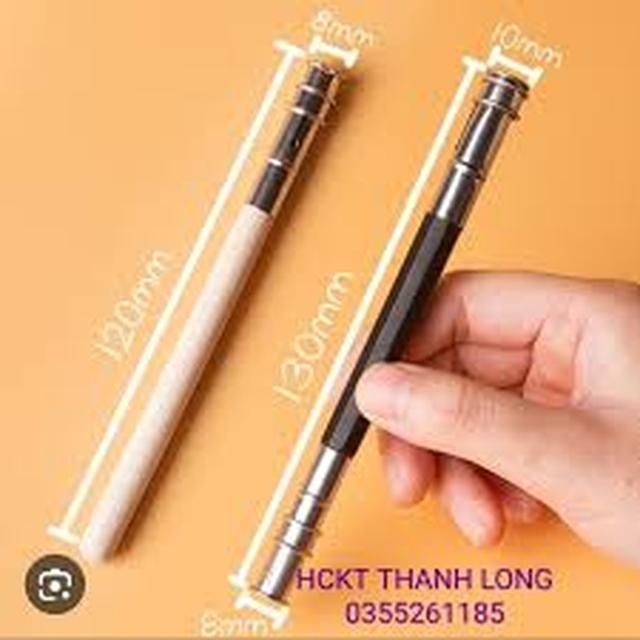pen: (12, 13, 399, 585), (210, 29, 577, 626)
